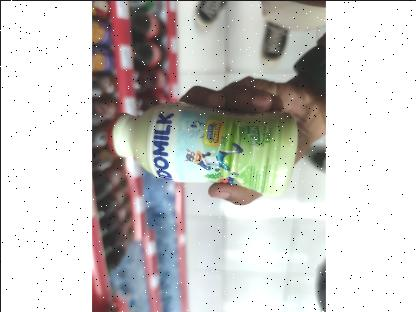Others: (93, 87, 309, 219)
